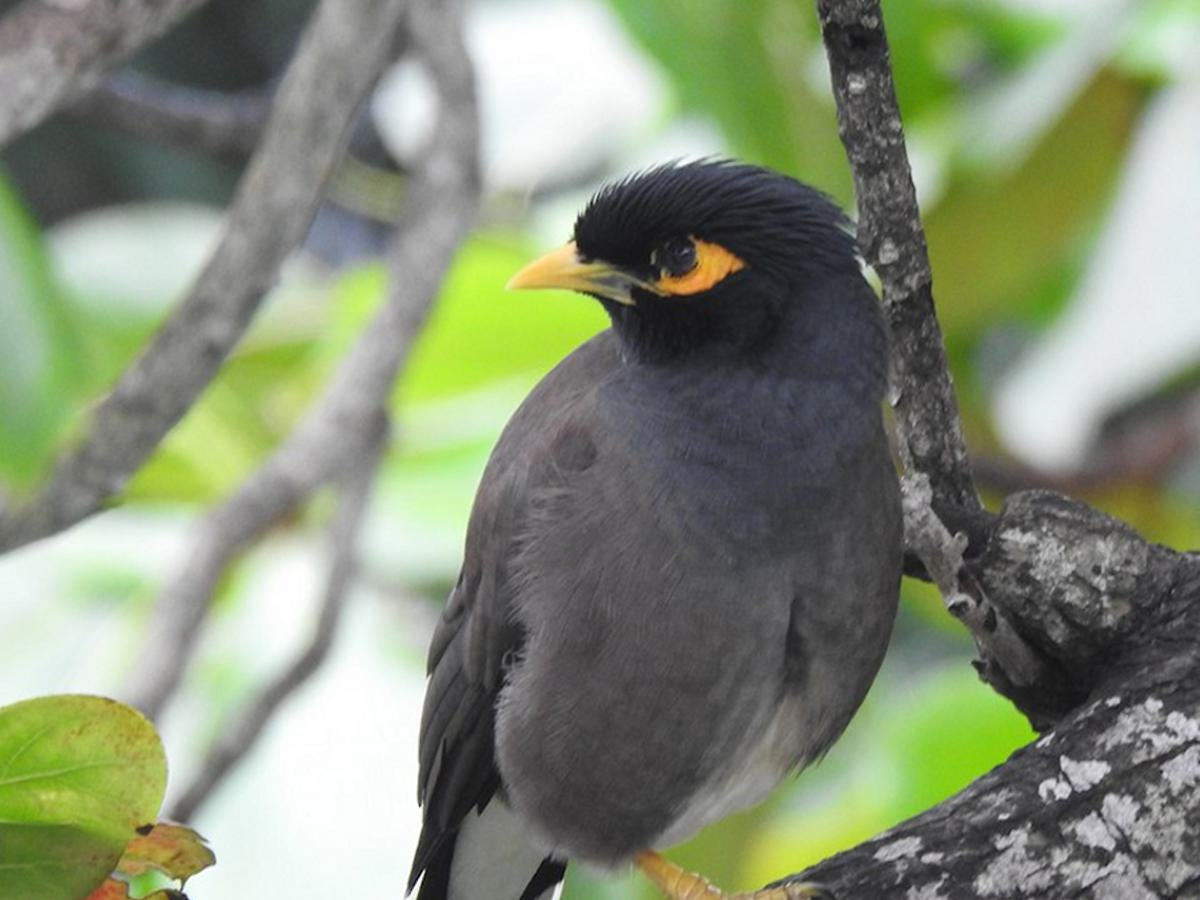myna: (391, 157, 910, 878)
